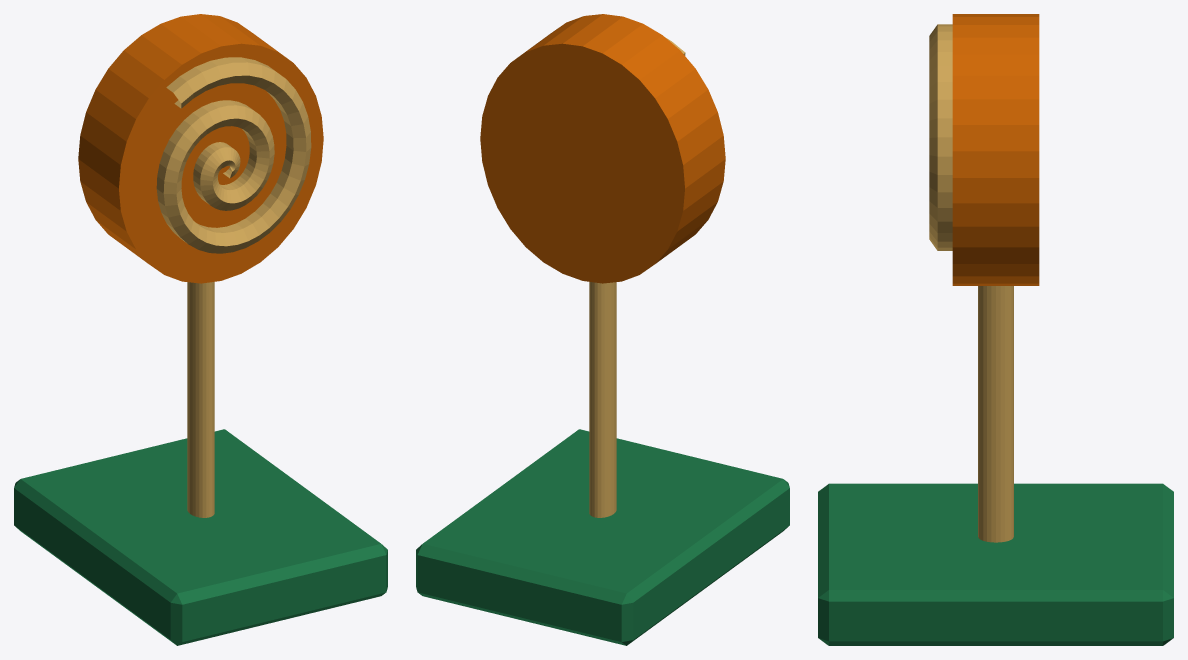
The model's file is mall_r5_sweets_small.fbx.
3 renders of one model, left to right at view 1: azimuth 30°, elevation 25°; view 2: azimuth 150°, elevation 25°; view 3: azimuth 270°, elevation 25°, orthographic. The views are drawn at different scales.
Parts seen in each view (by area): view 1: Part_0, Part_-1; view 2: Part_0, Part_-1; view 3: Part_-1, Part_0.
Part boxes in pixels (bbox=[...]): Part_0: bbox=[78, 14, 387, 645]; Part_-1: bbox=[14, 429, 385, 645]; Part_0: bbox=[480, 14, 789, 517]; Part_-1: bbox=[416, 429, 789, 645]; Part_-1: bbox=[818, 483, 1173, 645]; Part_0: bbox=[818, 14, 1039, 641].
Size of the model in its own units: 1.32 by 3.09 by 1.75.
